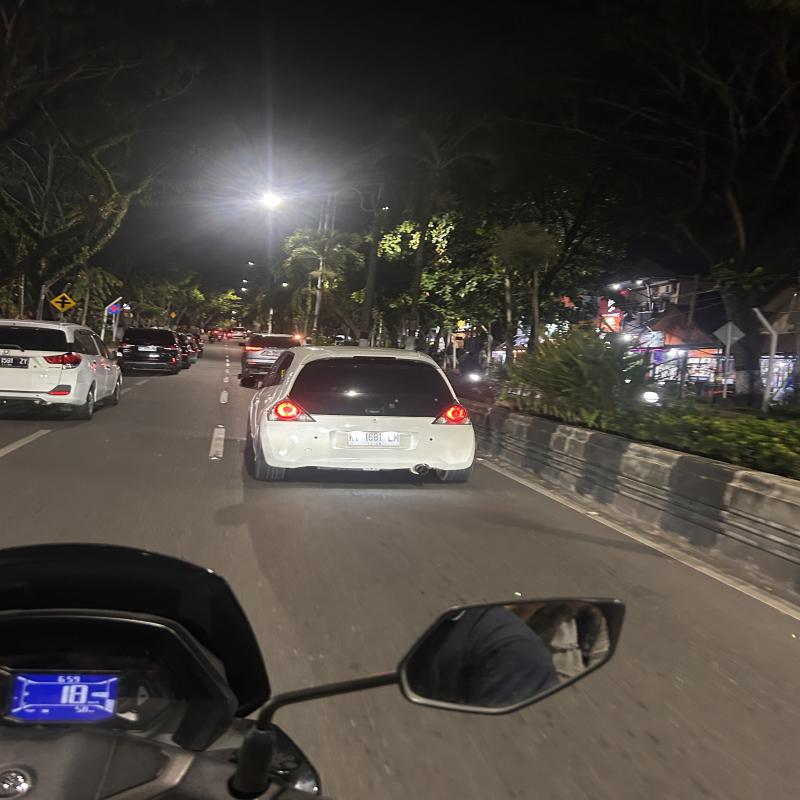license plate on a car: (349, 432, 404, 445), (138, 344, 162, 354)
